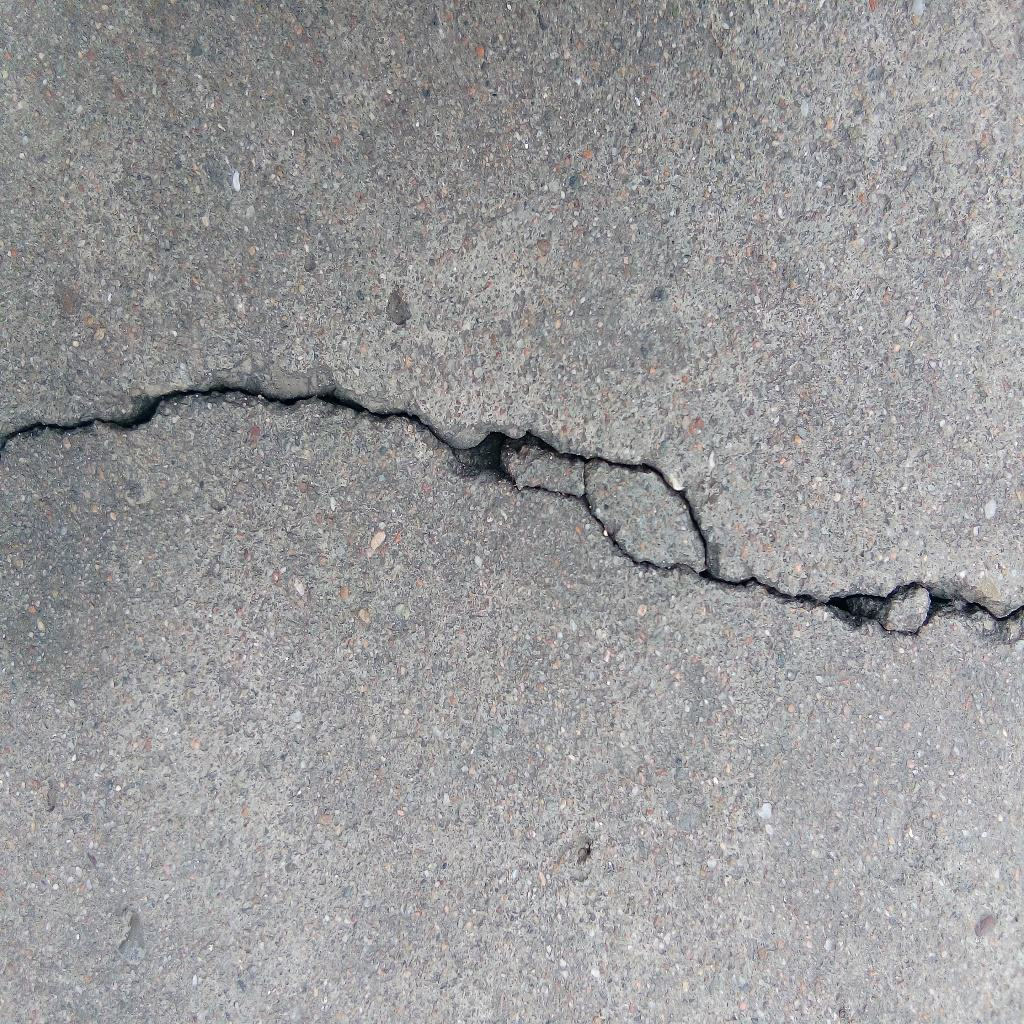Crack: (1, 382, 1024, 649)
